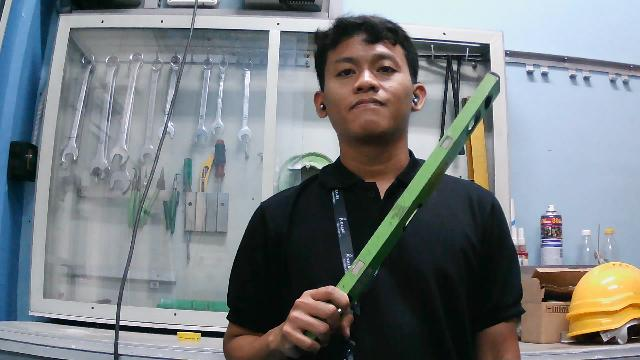water_pass: (290, 69, 503, 359)
